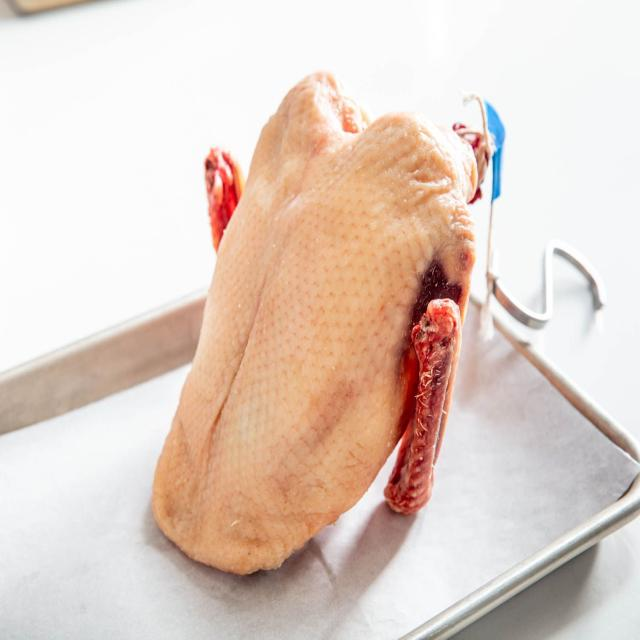Chicken: (152, 72, 478, 574)
